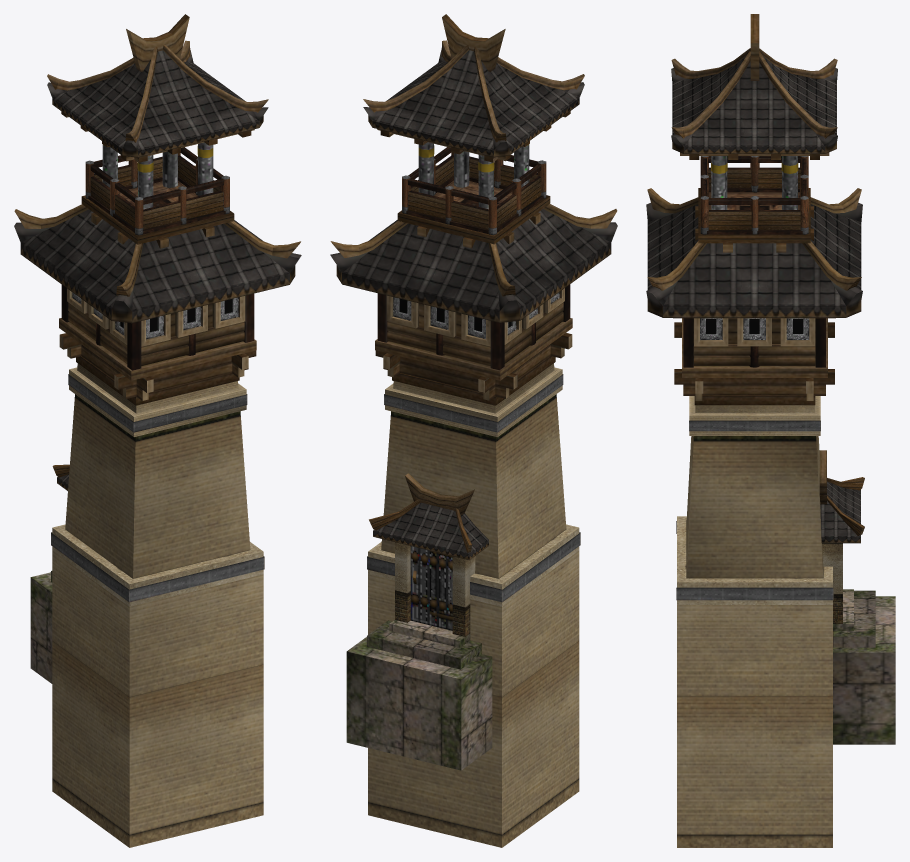
Rendered from han_tower_large.glb.
3 views of the same model, side by side, from view 1: azimuth 30°, elevation 25°; view 2: azimuth 150°, elevation 25°; view 3: azimuth 270°, elevation 25° (orthographic).
Visible parts, largest first — view 1: han_tower_large_part0; view 2: han_tower_large_part0; view 3: han_tower_large_part0.
Part boxes in pixels (x1,y1,x2,y2): han_tower_large_part0: [14, 14, 301, 847]; han_tower_large_part0: [330, 14, 617, 847]; han_tower_large_part0: [646, 14, 895, 847].
Bounding box in the file's own units: 2.26 × 9.04 × 2.6.
1 material, 1 textured.
